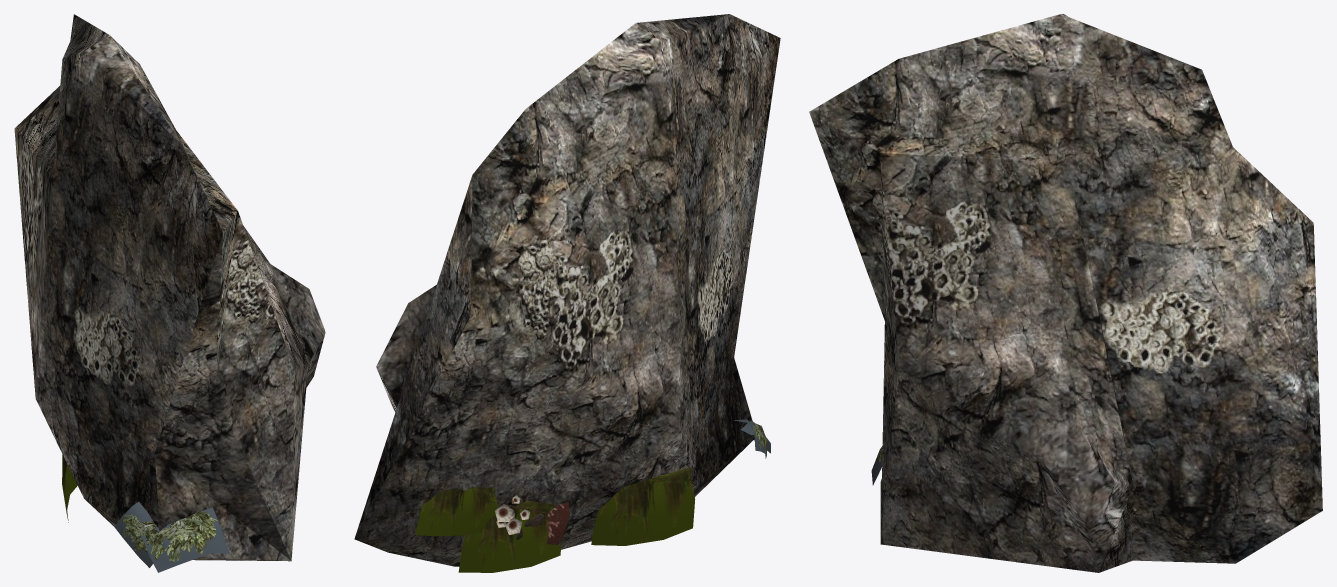
The model's file is pir_m_prp_dvj_rock_b.fbx.
3 views of the same model, side by side, from view 1: azimuth 30°, elevation 25°; view 2: azimuth 150°, elevation 25°; view 3: azimuth 270°, elevation 25° (orthographic). The views are drawn at different scales.
Parts seen in each view (by area): view 1: rock_4, seaweedClump3, seaweedClump, seaweedSlime10; view 2: rock_4, seaweedSlime10, seaweedSlime9, seaweedSlime8, dj_lining3; view 3: rock_4.
Boxes of the visible parts, x1,y1,x2,y2 form: rock_4: [14, 14, 325, 561]; seaweedClump3: [141, 507, 229, 572]; seaweedClump: [114, 501, 173, 567]; seaweedSlime10: [62, 455, 77, 522]; rock_4: [354, 14, 780, 566]; seaweedSlime10: [591, 467, 695, 545]; seaweedSlime9: [458, 500, 561, 572]; seaweedSlime8: [415, 487, 497, 536]; dj_lining3: [469, 495, 569, 544]; rock_4: [809, 14, 1322, 572].
Bounding box in the file's own units: 2913 × 4933 × 4582.
2 materials, 2 textured.
